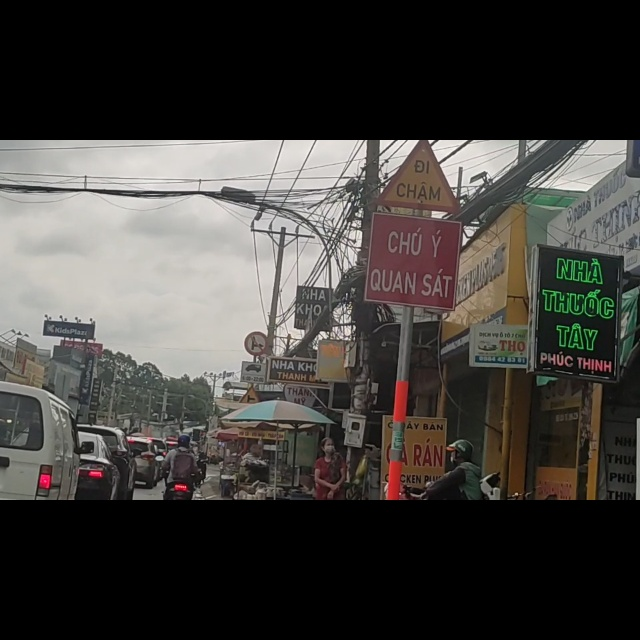bien_cam: (375, 1, 460, 130), (245, 341, 269, 383), (239, 393, 265, 431), (238, 436, 263, 473)
